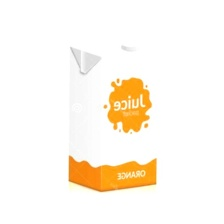carton: (59, 31, 165, 199)
